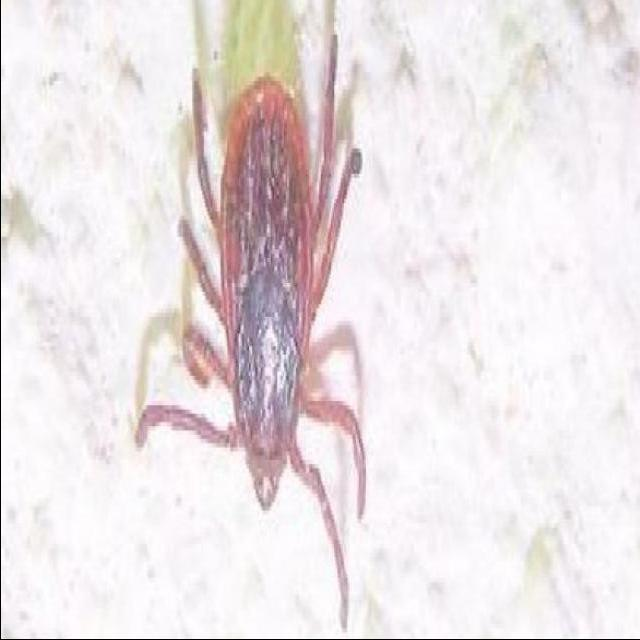Rhipicephalus Sanguineus-F: (133, 31, 365, 634)
